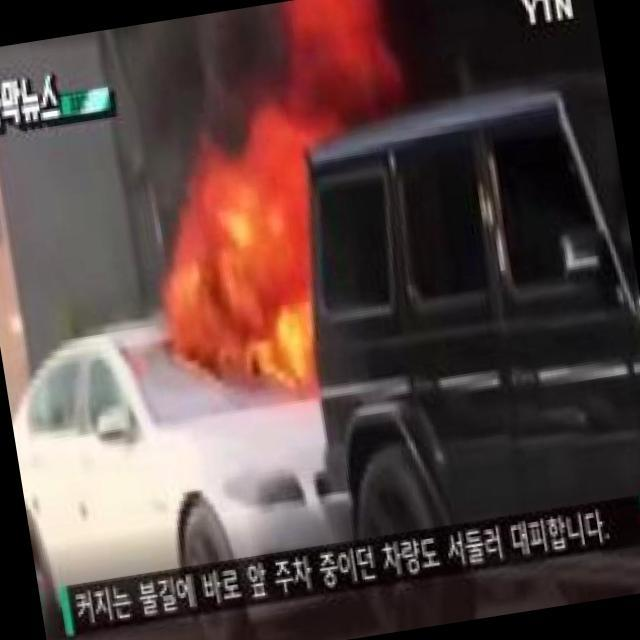Fire: (160, 86, 349, 409)
